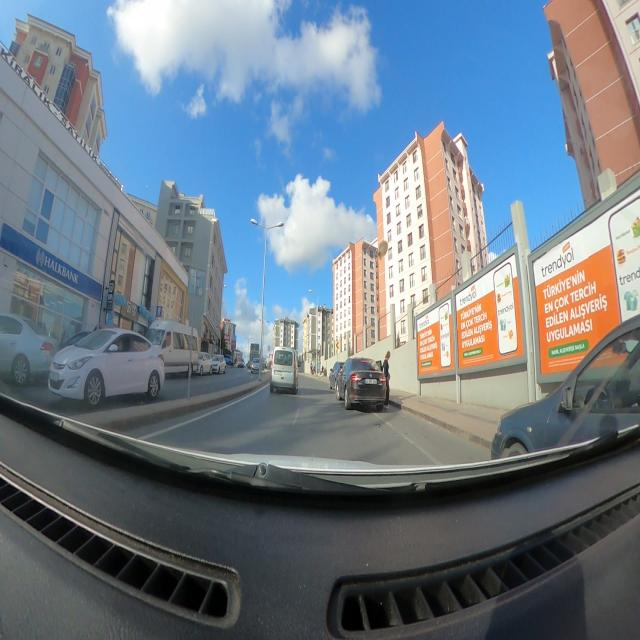SignStore: (1, 223, 102, 303), (121, 299, 140, 323)
